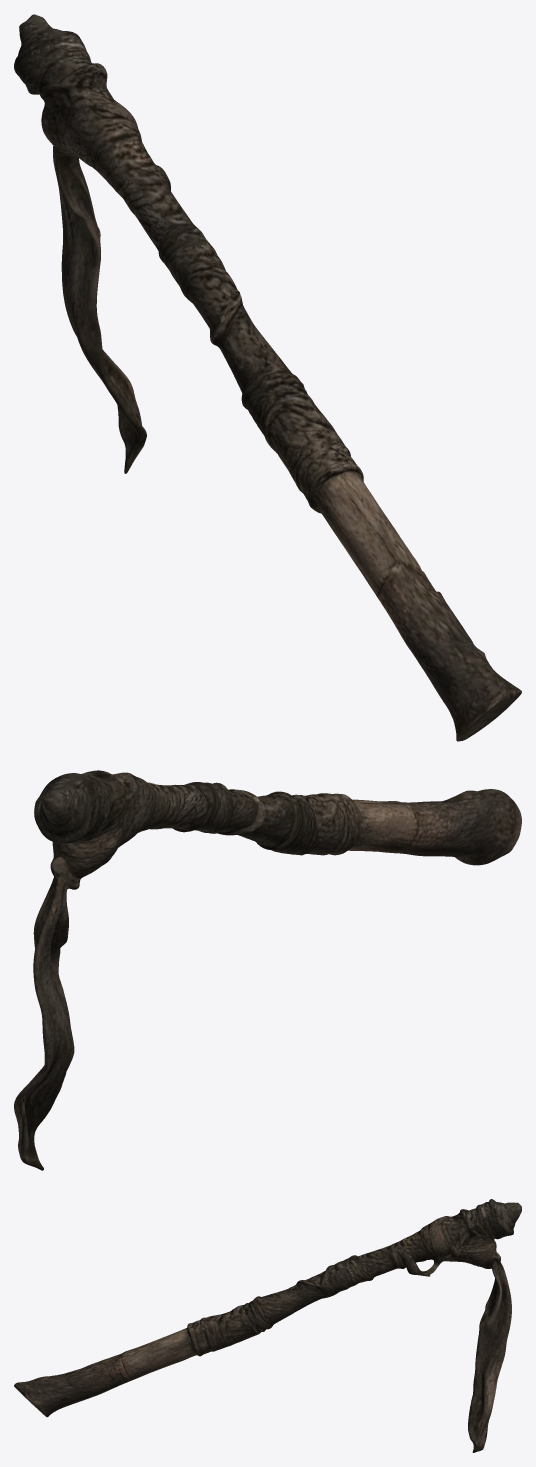
The model's file is weapon_staff.glb.
3 views of the same model, one above another, from view 1: azimuth 30°, elevation 25°; view 2: azimuth 150°, elevation 25°; view 3: azimuth 270°, elevation 25° (orthographic). The views are drawn at different scales.
Visible parts, largest first — view 1: material; view 2: material; view 3: material.
Part boxes in pixels (x1,y1,x2,y2): material: [14, 14, 521, 741]; material: [14, 770, 521, 1170]; material: [14, 1199, 521, 1452].
Size of the model in its own units: 0.1389 by 0.5544 by 1.07.
1 material, 1 textured.
